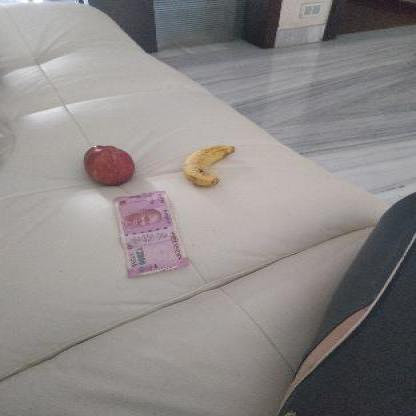New2000Front: (114, 191, 180, 273)
